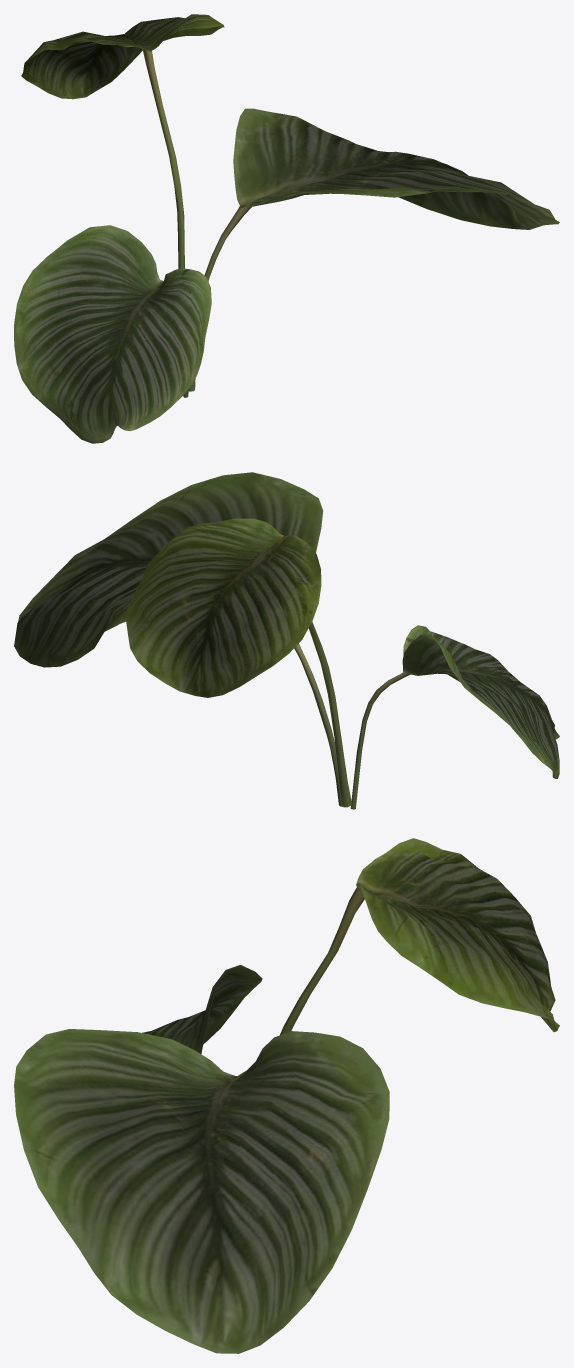
Rendered from calathea_orbifolia_01_b.gltf.lod.glb.
3 views of the same model, one above another, from view 1: azimuth 30°, elevation 25°; view 2: azimuth 150°, elevation 25°; view 3: azimuth 270°, elevation 25° (orthographic). The views are drawn at different scales.
Parts seen in each view (by area): view 1: calathea_orbifolia_01_d; view 2: calathea_orbifolia_01_d; view 3: calathea_orbifolia_01_d.
Boxes of the visible parts, <box> form: calathea_orbifolia_01_d: <box>14,14,559,443</box>; calathea_orbifolia_01_d: <box>14,472,559,809</box>; calathea_orbifolia_01_d: <box>14,838,559,1353</box>.
Bounding box in the file's own units: 0.2264 × 0.1304 × 0.1631.
Materials: 1 (1 with a texture image).
